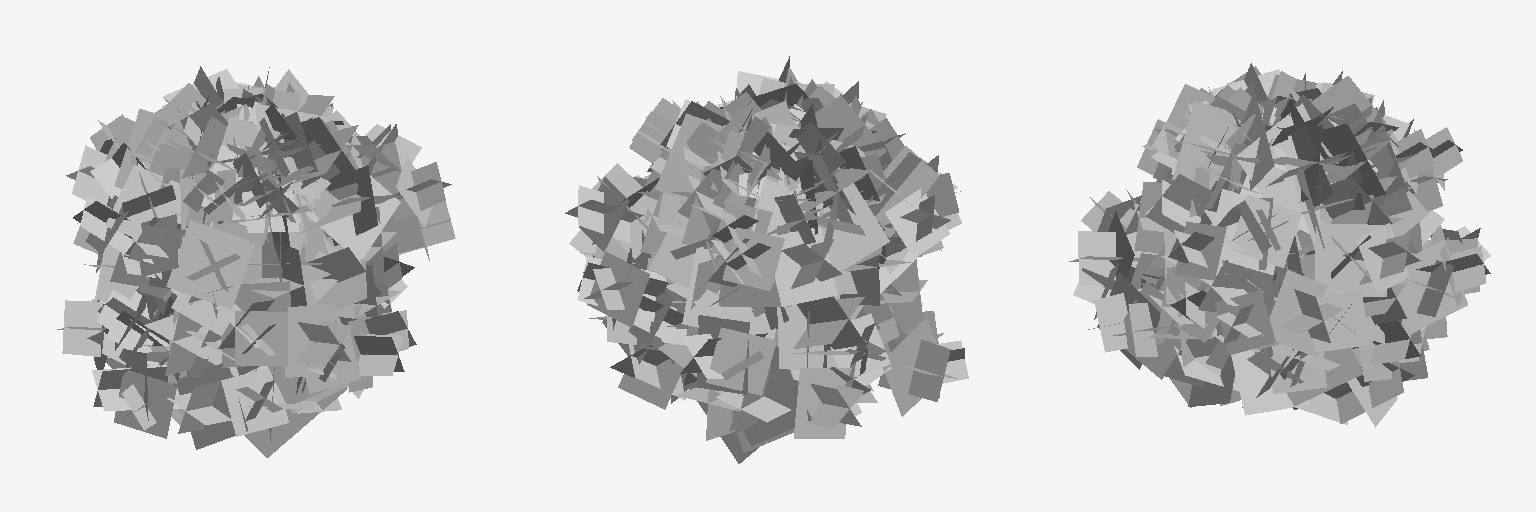
File: Bush_Large.obj
3 renders of one model, left to right at view 1: azimuth 30°, elevation 25°; view 2: azimuth 150°, elevation 25°; view 3: azimuth 270°, elevation 25°, orthographic.
Visible parts, largest first — view 1: Bush_Large; view 2: Bush_Large; view 3: Bush_Large.
Part boxes in pixels (bbox=[...]): Bush_Large: bbox=[57, 66, 455, 457]; Bush_Large: bbox=[565, 56, 968, 463]; Bush_Large: bbox=[1069, 63, 1490, 427].
Size of the model in its own units: 3.6 by 3.25 by 3.67.